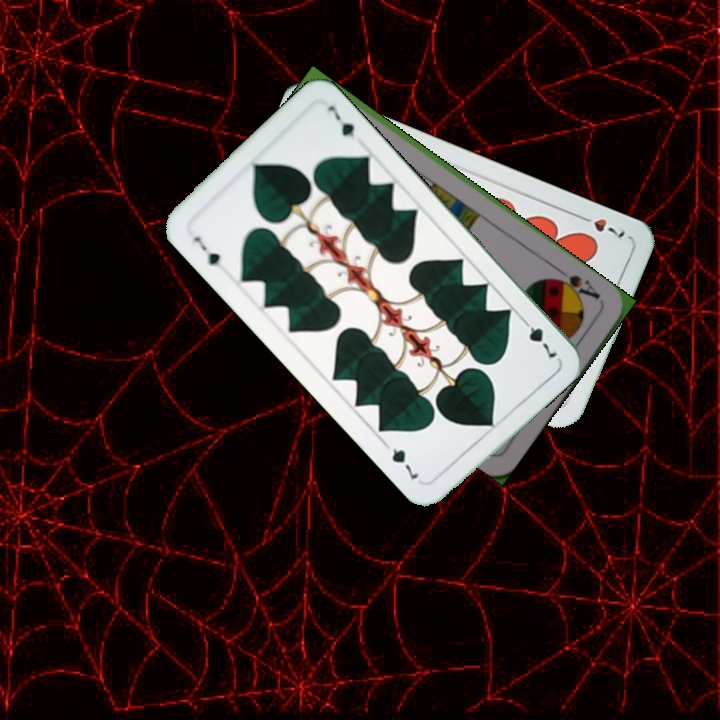G7: (516, 313, 560, 361), (187, 232, 223, 269)
H7: (574, 210, 628, 242)
SA: (548, 264, 603, 304)
